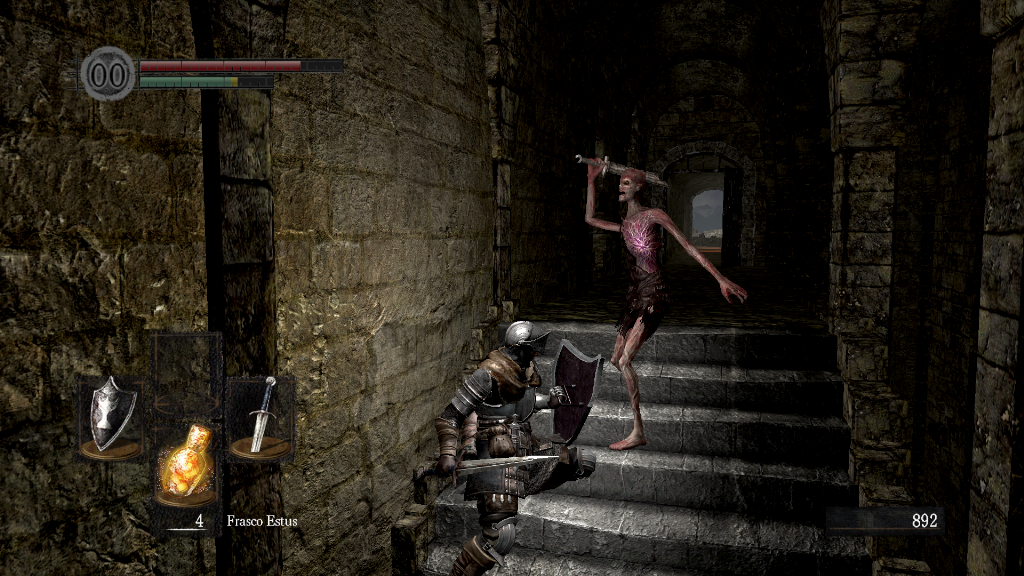health: (138, 58, 343, 71)
hollow: (568, 152, 751, 450)
humanity: (80, 45, 136, 102)
player: (434, 319, 603, 576)
souls: (825, 506, 945, 536)
stamina: (138, 74, 274, 88)
